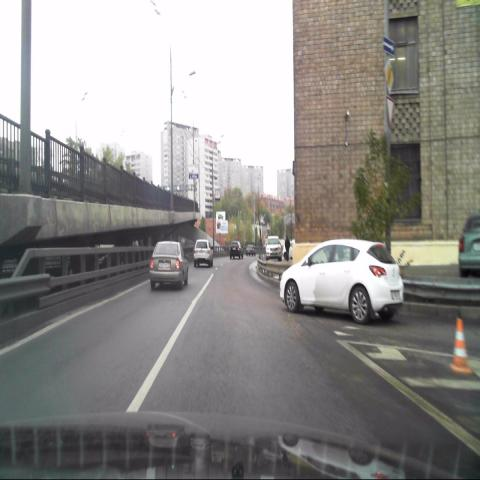5_7_1: (381, 35, 397, 55)
